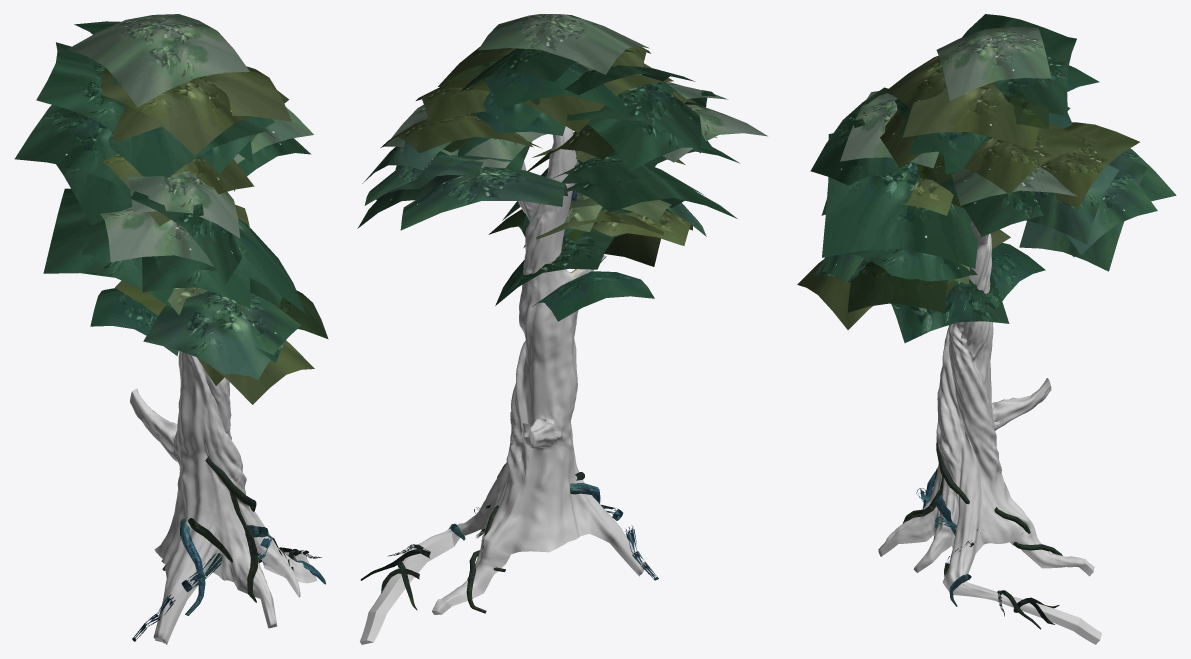
3 views of the same model, side by side, from view 1: azimuth 30°, elevation 25°; view 2: azimuth 150°, elevation 25°; view 3: azimuth 270°, elevation 25° (orthographic). The views are drawn at different scales.
Visible parts, largest first — view 1: SuObj3d66_4189030079329_59_96, SuObj3d66_4189030079329_48_11, SuObj3d66_4189030079329_14_218, SuObj3d66_4189030079329_16_856, SuObj3d66_4189030079329_56_493, SuObj3d66_4189030079329_45_153, SuObj3d66_4189030079329_60_687, SuObj3d66_4189030079329_39_793, SuObj3d66_4189030079329_34_374, SuObj3d66_4189030079329_22_420, SuObj3d66_4189030079329_42_967, SuObj3d66_4189030079329_31_859 (+18 smaller); view 2: SuObj3d66_4189030079329_59_96, SuObj3d66_4189030079329_48_11, SuObj3d66_4189030079329_61_305, SuObj3d66_4189030079329_56_493, SuObj3d66_4189030079329_34_374, SuObj3d66_4189030079329_50_200, SuObj3d66_4189030079329_45_153, SuObj3d66_4189030079329_44_756, SuObj3d66_4189030079329_17_404, SuObj3d66_4189030079329_55_491, SuObj3d66_4189030079329_40_725, SuObj3d66_4189030079329_19_634 (+15 smaller); view 3: SuObj3d66_4189030079329_59_96, SuObj3d66_4189030079329_31_859, SuObj3d66_4189030079329_48_11, SuObj3d66_4189030079329_34_374, SuObj3d66_4189030079329_27_121, SuObj3d66_4189030079329_55_491, SuObj3d66_4189030079329_40_725, SuObj3d66_4189030079329_21_632, SuObj3d66_4189030079329_41_928, SuObj3d66_4189030079329_54_70, SuObj3d66_4189030079329_57_10, SuObj3d66_4189030079329_46_759 (+16 smaller).
Boxes of the visible parts, x1,y1,x2,y2 form: SuObj3d66_4189030079329_59_96: (130,351,317,644); SuObj3d66_4189030079329_48_11: (67,14,249,107); SuObj3d66_4189030079329_14_218: (143,291,300,379); SuObj3d66_4189030079329_16_856: (100,68,250,155); SuObj3d66_4189030079329_56_493: (14,105,130,191); SuObj3d66_4189030079329_45_153: (43,188,173,307); SuObj3d66_4189030079329_60_687: (36,42,125,131); SuObj3d66_4189030079329_39_793: (100,207,213,266); SuObj3d66_4189030079329_34_374: (111,66,291,142); SuObj3d66_4189030079329_22_420: (127,171,240,238); SuObj3d66_4189030079329_42_967: (108,116,267,177); SuObj3d66_4189030079329_31_859: (153,218,306,314); SuObj3d66_4189030079329_59_96: (360,126,644,644); SuObj3d66_4189030079329_48_11: (478,14,649,74); SuObj3d66_4189030079329_61_305: (400,166,567,230); SuObj3d66_4189030079329_56_493: (567,83,701,153); SuObj3d66_4189030079329_34_374: (438,47,673,133); SuObj3d66_4189030079329_50_200: (468,63,629,116); SuObj3d66_4189030079329_45_153: (567,176,737,218); SuObj3d66_4189030079329_44_756: (587,118,715,171); SuObj3d66_4189030079329_17_404: (532,271,654,321); SuObj3d66_4189030079329_55_491: (380,114,533,153); SuObj3d66_4189030079329_40_725: (495,229,630,305); SuObj3d66_4189030079329_19_634: (536,210,663,266); SuObj3d66_4189030079329_59_96: (878,210,1101,644); SuObj3d66_4189030079329_31_859: (822,133,978,268); SuObj3d66_4189030079329_48_11: (936,26,1051,100); SuObj3d66_4189030079329_34_374: (902,83,1039,150); SuObj3d66_4189030079329_27_121: (964,124,1089,194); SuObj3d66_4189030079329_55_491: (1040,122,1139,207); SuObj3d66_4189030079329_40_725: (891,273,1009,342); SuObj3d66_4189030079329_21_632: (847,261,948,312); SuObj3d66_4189030079329_41_928: (992,32,1076,115); SuObj3d66_4189030079329_54_70: (1019,155,1147,271); SuObj3d66_4189030079329_57_10: (810,87,898,185); SuObj3d66_4189030079329_46_759: (1025,164,1119,244).
Size of the model in its own units: 754 by 1390 by 874.
